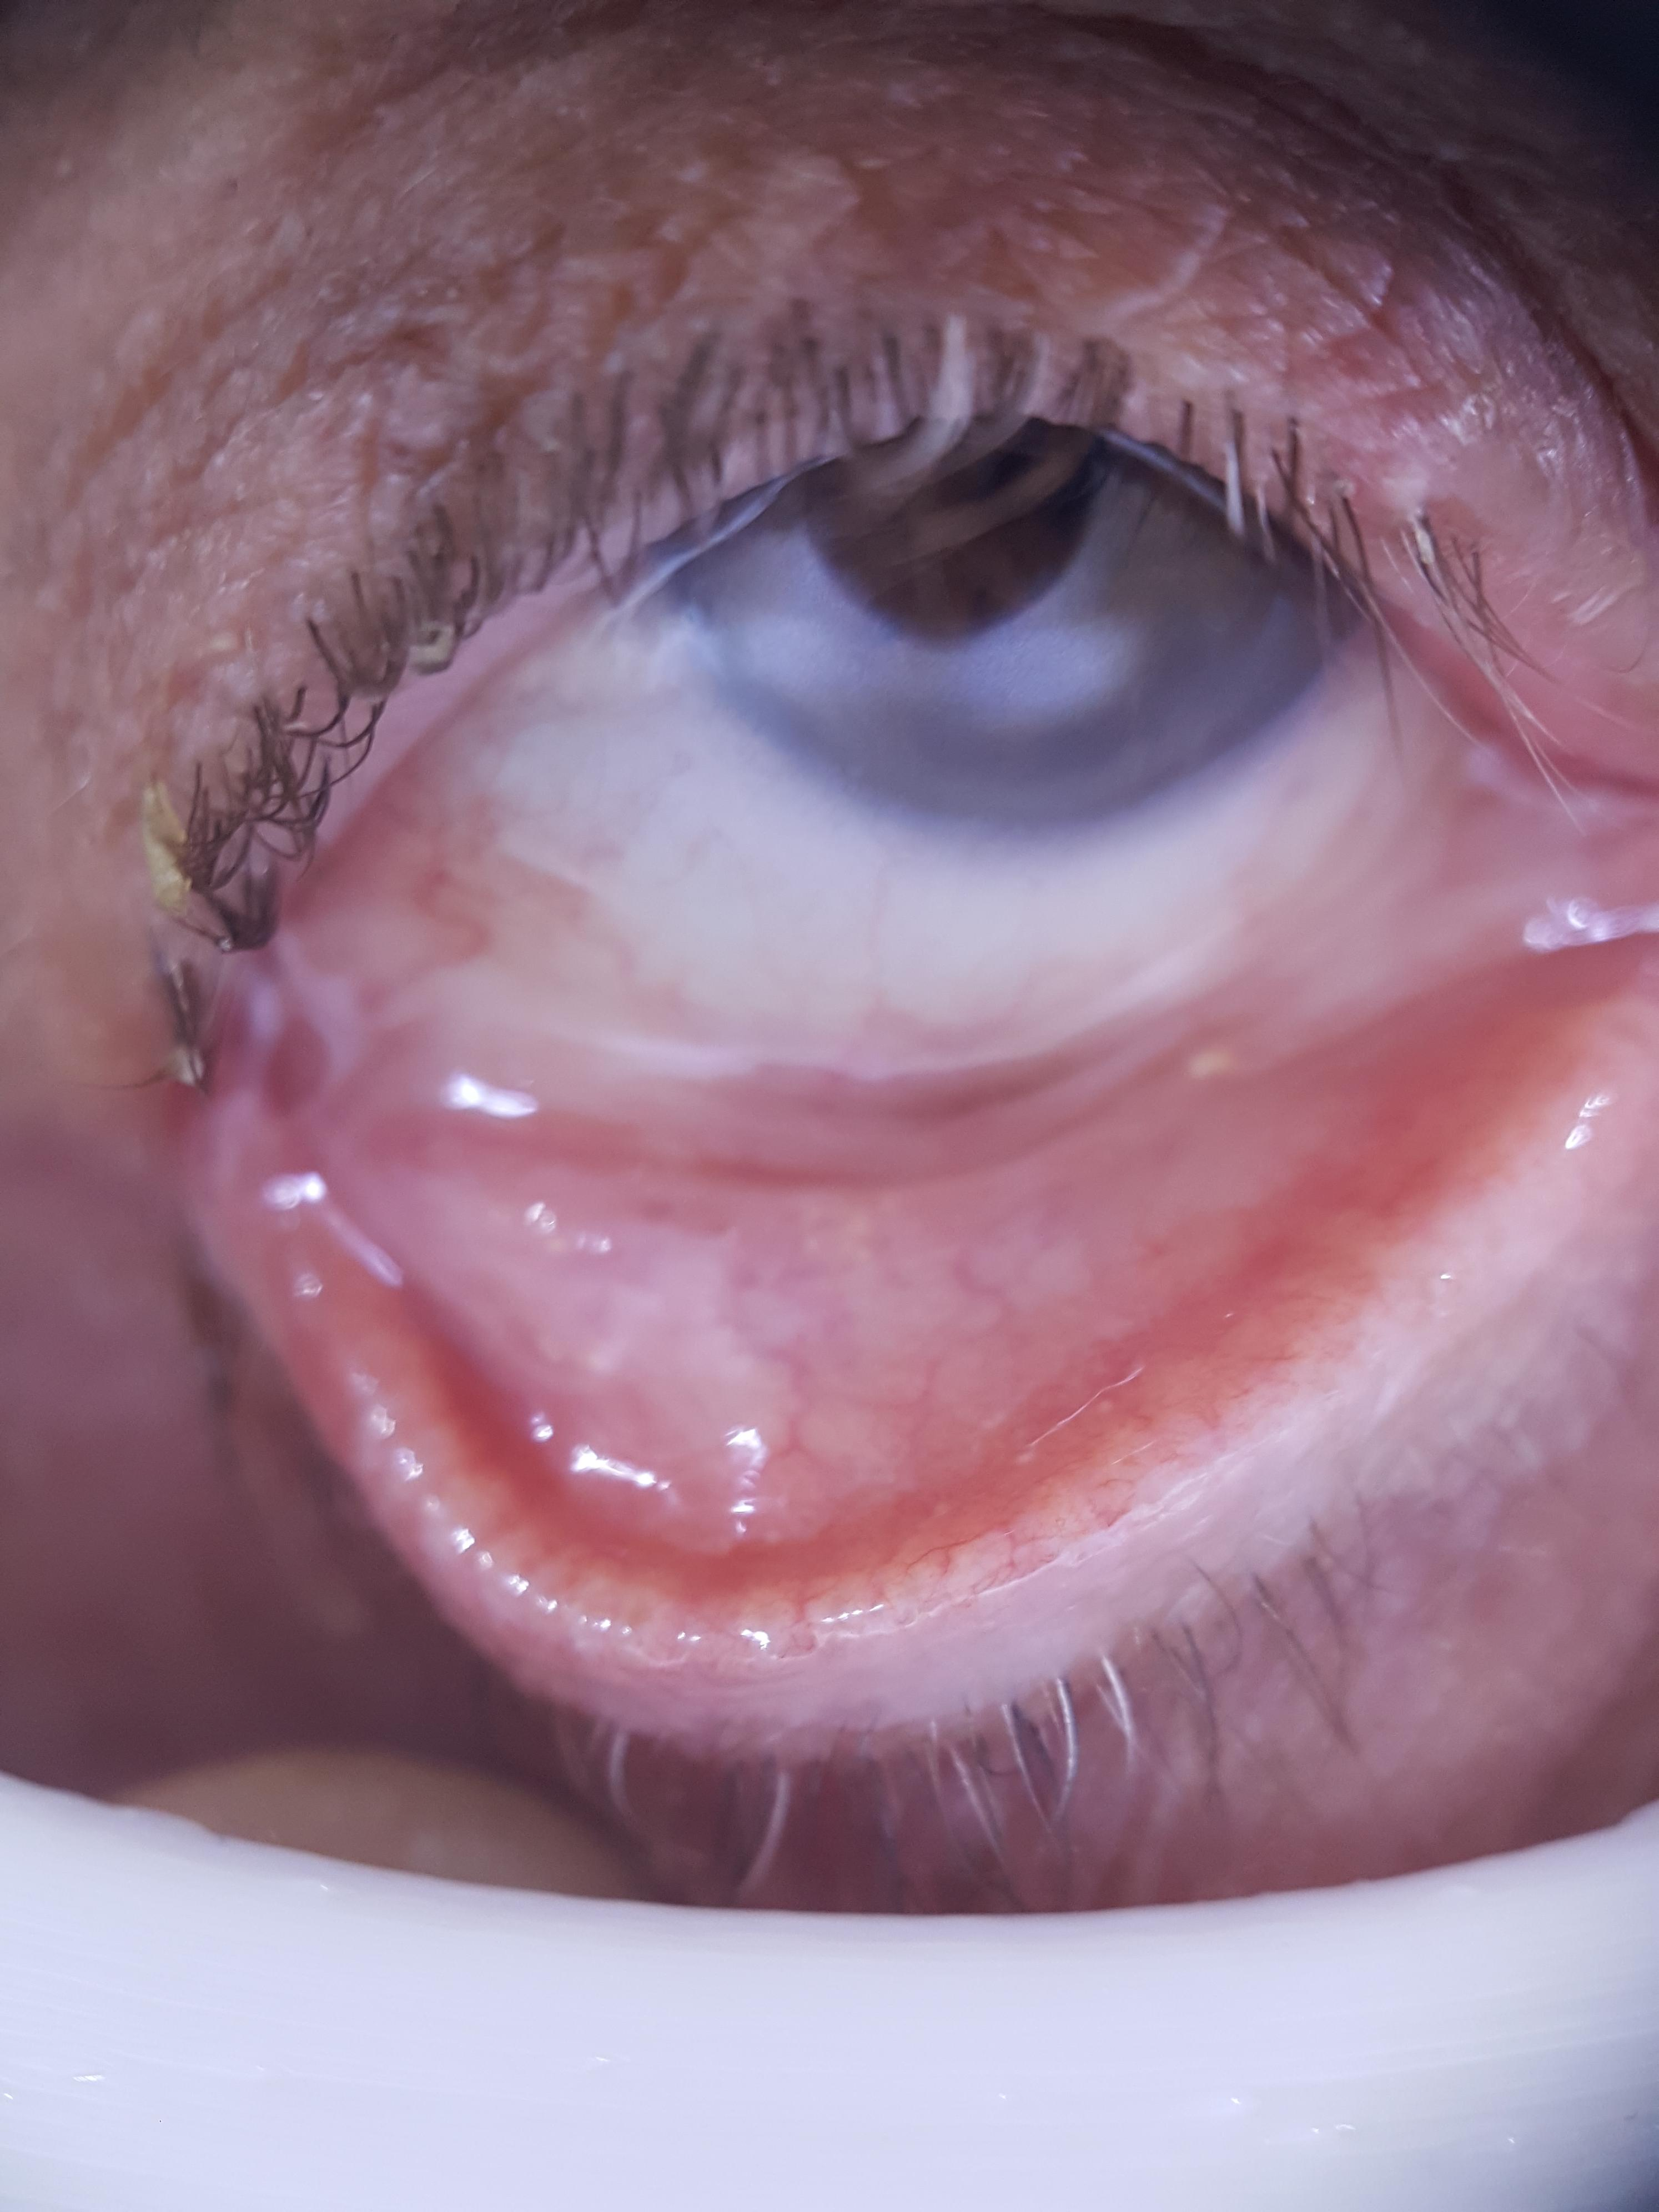forniceal: (354, 1129, 1314, 1547)
forniceal_palpebral: (349, 1118, 1323, 1595)
palpebral: (397, 1245, 1293, 1595)
